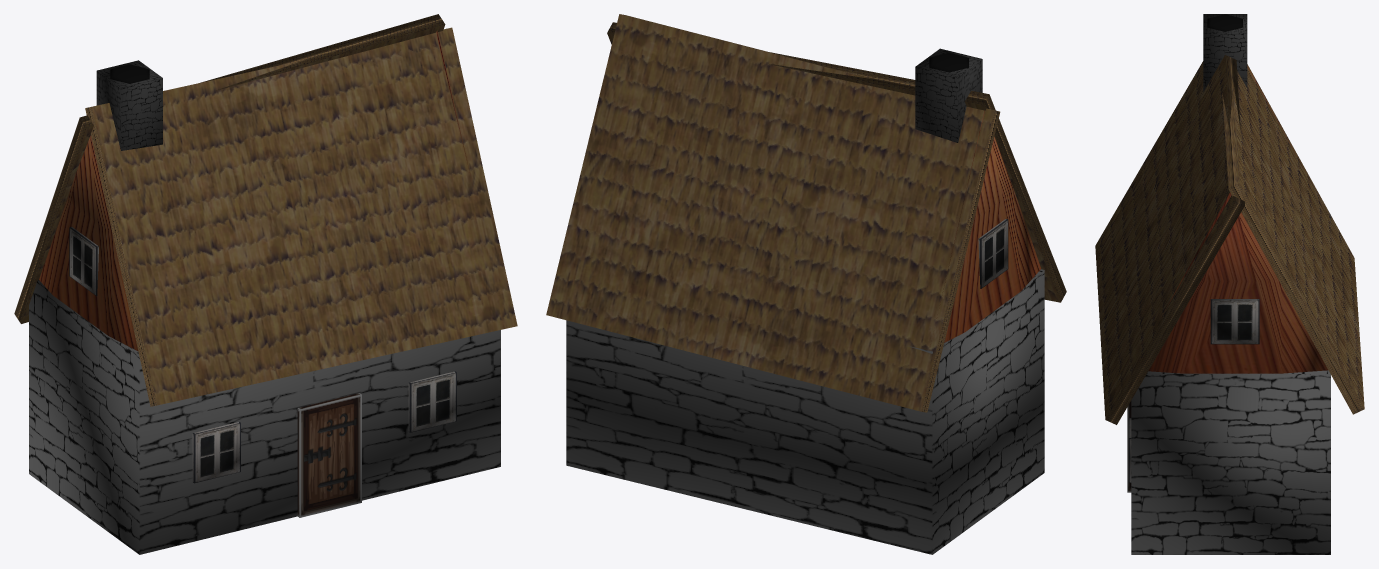
File: house.glb
3 renders of one model, left to right at view 1: azimuth 30°, elevation 25°; view 2: azimuth 150°, elevation 25°; view 3: azimuth 270°, elevation 25°, orthographic. The views are drawn at different scales.
Visible parts, largest first — view 1: Merged batch 1; view 2: Merged batch 1; view 3: Merged batch 1.
Boxes of the visible parts, x1=… form: Merged batch 1: x1=14, y1=14, x2=517, y2=554; Merged batch 1: x1=546, y1=14, x2=1066, y2=554; Merged batch 1: x1=1095, y1=14, x2=1364, y2=554.
Bounding box in the file's own units: 3.91 × 4.36 × 2.7.
1 material, 1 textured.
